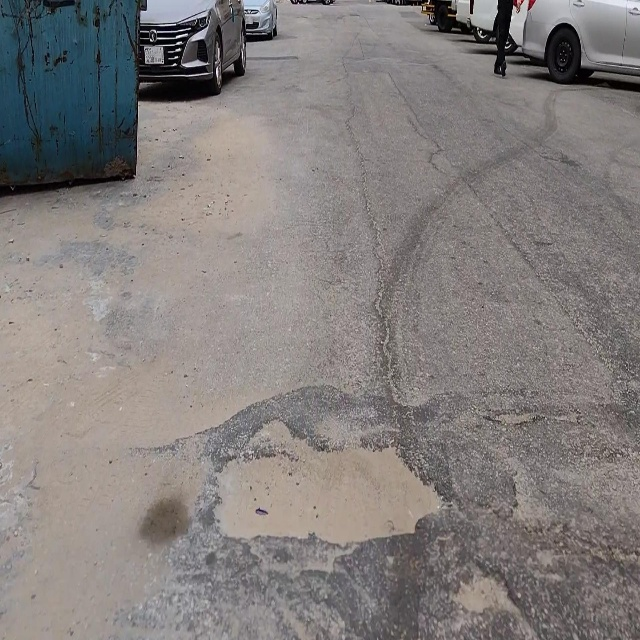pothole: (211, 413, 446, 551)
